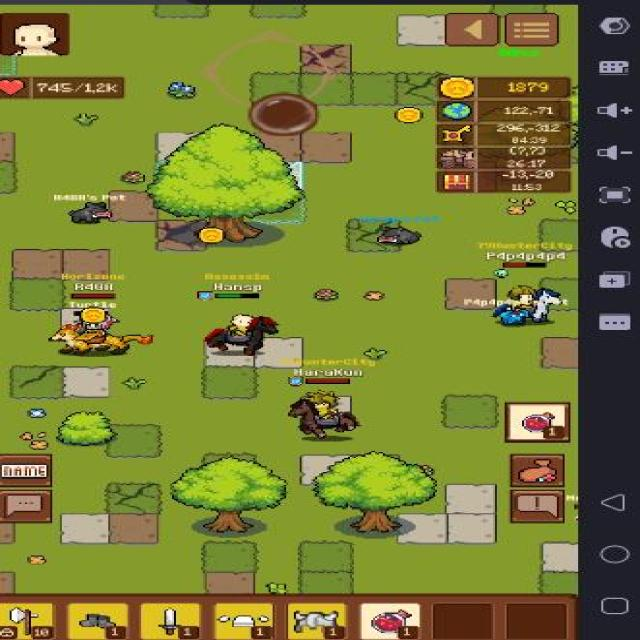earth_square: (242, 129, 314, 165), (156, 220, 208, 250), (108, 514, 159, 544), (108, 191, 157, 222), (445, 278, 495, 308), (300, 132, 350, 162), (298, 44, 348, 72), (12, 249, 60, 277), (62, 249, 108, 276), (540, 337, 576, 368), (207, 572, 255, 593), (0, 132, 12, 162), (0, 572, 12, 593)
grass: (362, 347, 388, 362), (75, 112, 97, 126), (122, 376, 145, 388), (265, 583, 284, 594)
gray_square: (298, 455, 350, 486), (394, 513, 445, 544), (396, 15, 445, 46), (54, 306, 112, 332), (255, 337, 302, 369), (445, 484, 495, 513), (60, 514, 108, 544), (447, 514, 495, 544), (62, 367, 108, 397), (542, 541, 576, 573), (156, 133, 188, 161)
green_square: (285, 72, 360, 109), (344, 68, 402, 110), (348, 218, 416, 252), (240, 72, 306, 104), (296, 540, 352, 571), (203, 540, 257, 572), (10, 366, 62, 398), (203, 366, 255, 398), (443, 396, 495, 427), (106, 484, 158, 513), (296, 570, 358, 594), (394, 72, 439, 105), (538, 220, 576, 250), (540, 570, 576, 593), (155, 4, 209, 18), (252, 4, 306, 18), (0, 160, 14, 192)
player: (195, 308, 284, 359), (49, 313, 148, 358), (281, 388, 359, 442), (499, 278, 564, 328)
tree: (149, 122, 307, 246), (309, 447, 437, 532), (168, 451, 288, 532), (54, 410, 116, 445)
